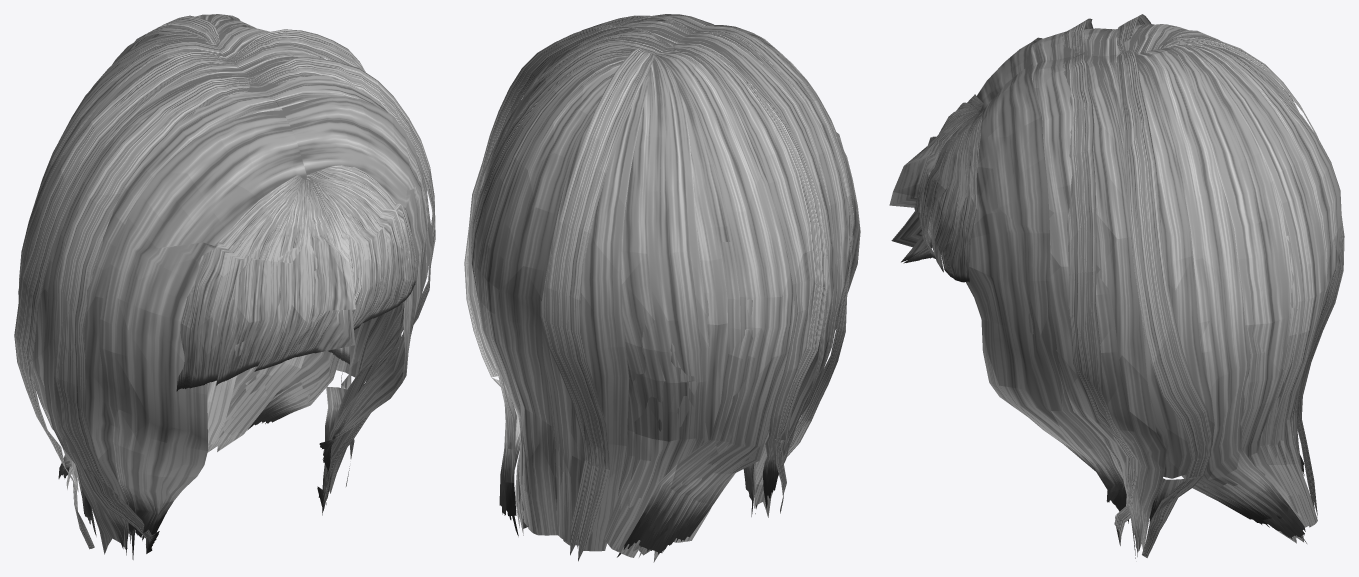
File: hair_short04.glb
3 renders of one model, left to right at view 1: azimuth 30°, elevation 25°; view 2: azimuth 150°, elevation 25°; view 3: azimuth 270°, elevation 25°, orthographic. The views are drawn at different scales.
Visible parts, largest first — view 1: hair_short04; view 2: hair_short04; view 3: hair_short04.
Boxes of the visible parts, left/top/right/bottom form: hair_short04: left=14, top=14, right=435, bottom=559; hair_short04: left=464, top=14, right=860, bottom=562; hair_short04: left=889, top=14, right=1344, bottom=558.
Bounding box in the file's own units: 0.2045 × 0.2607 × 0.2233.
1 material, 1 textured.
